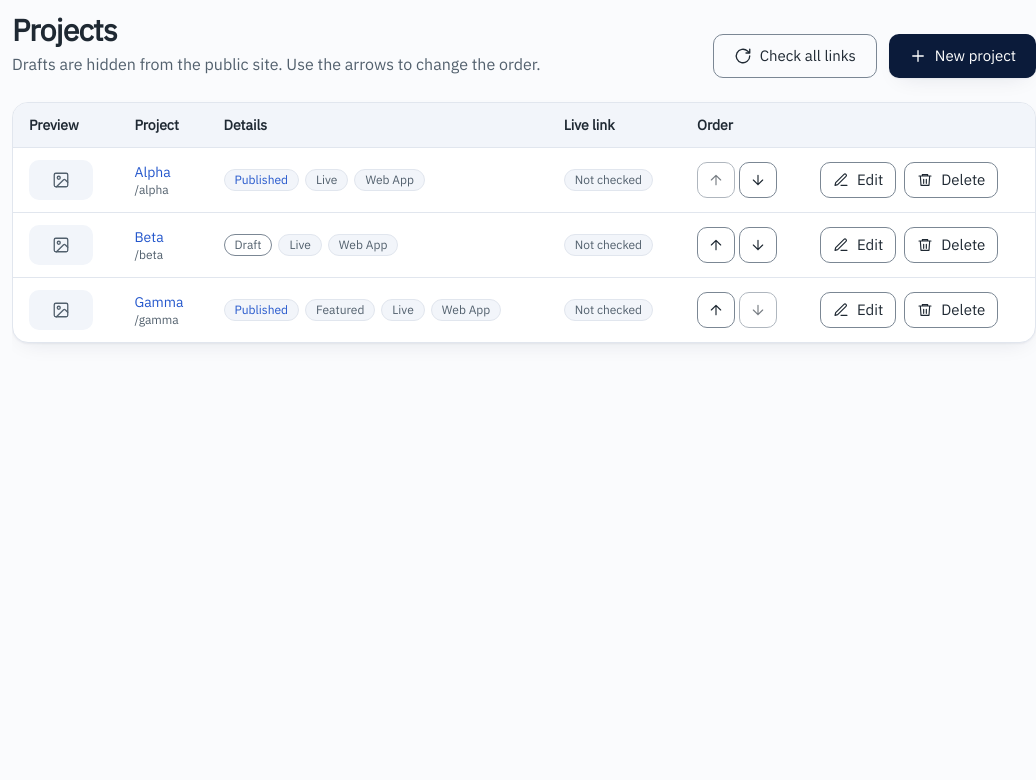
Test: ProjectsPage › reorders with the arrow buttons: sends the complete id list and moves the row immediately
Expected: the link "Alpha" is shown, x1=134 y1=163 x2=171 y2=181
Expected: the button named "Move Alpha up" is disabled, x1=697 y1=162 x2=735 y2=198
Click the button named "Move Beta up" at (716, 245), box x1=697 y1=227 x2=735 y2=263
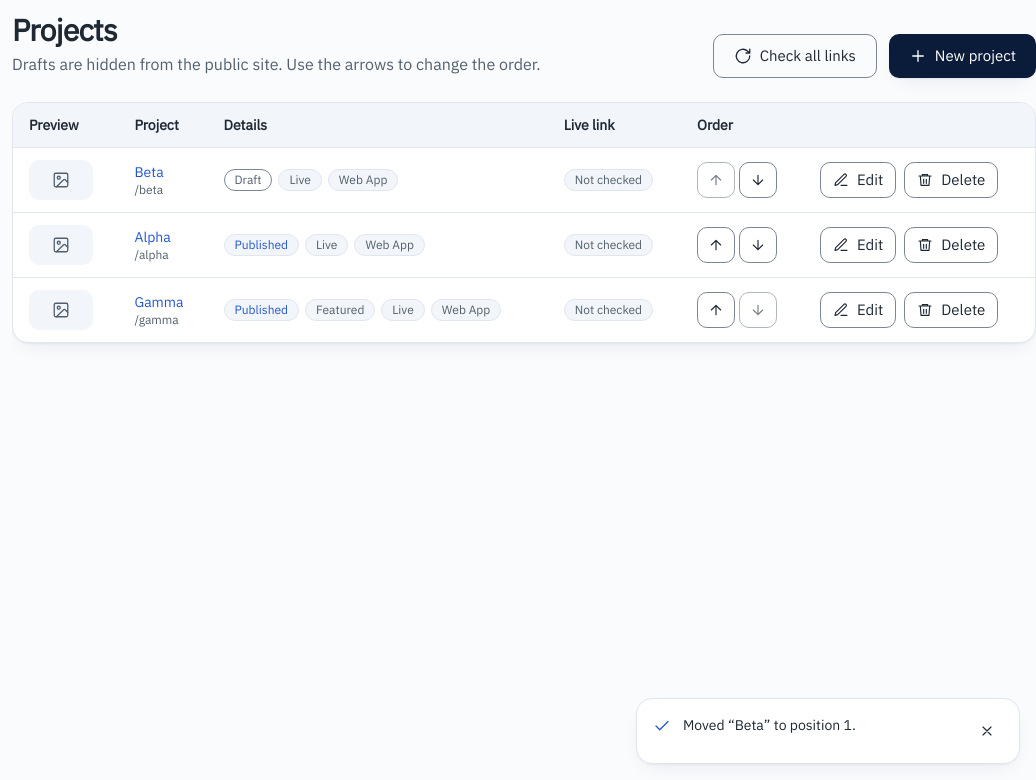
Expected: the text "Moved “Beta” to position 1." is shown, x1=683 y1=716 x2=856 y2=734
